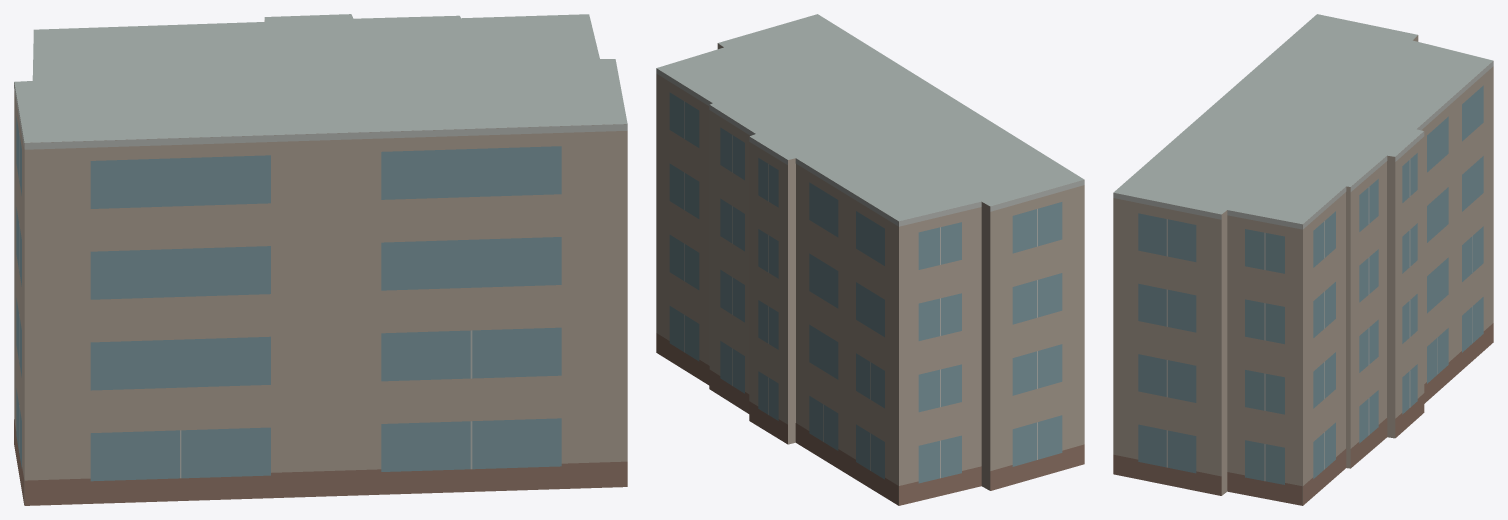
File: survey-upis-32630110.glb
3 renders of one model, left to right at view 1: azimuth 30°, elevation 25°; view 2: azimuth 150°, elevation 25°; view 3: azimuth 270°, elevation 25°, orthographic. The views are drawn at different scales.
Parts seen in each view (by area): view 1: survey-upis-32630110.tmp; view 2: survey-upis-32630110.tmp; view 3: survey-upis-32630110.tmp.
Part boxes in pixels (<box>): survey-upis-32630110.tmp: <box>14,14,627,505</box>; survey-upis-32630110.tmp: <box>656,14,1084,505</box>; survey-upis-32630110.tmp: <box>1113,14,1493,505</box>.
Bounding box in the file's own units: 20.83 × 13 × 15.93.
